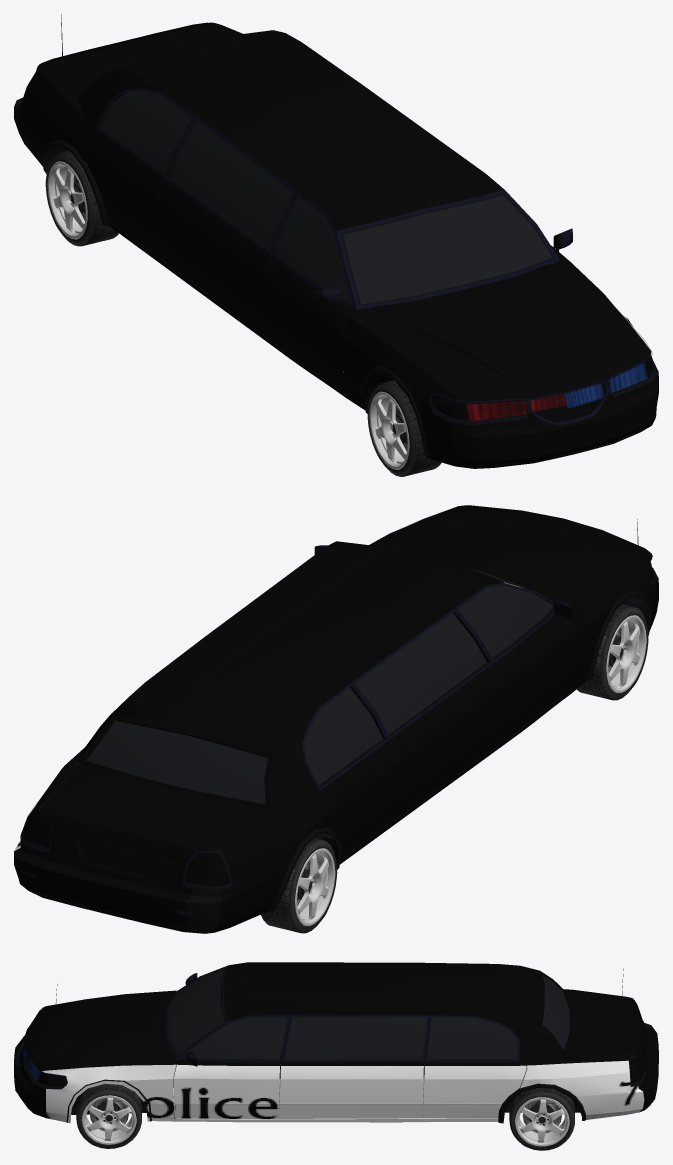
File: PoliceCar8.FBX
The picture shows the model from 3 angles, top to bottom: view 1: azimuth 30°, elevation 25°; view 2: azimuth 150°, elevation 25°; view 3: azimuth 270°, elevation 25°; orthographic projection. The views are drawn at different scales.
Parts seen in each view (by area): view 1: Body, FR, BR; view 2: Body, BR, FR; view 3: Body, FL, BL.
Part boxes in pixels (x1,y1,x2,y2): Body: [14, 14, 658, 468]; FR: [367, 380, 441, 476]; BR: [45, 151, 118, 246]; Body: [14, 505, 658, 933]; BR: [261, 838, 337, 933]; FR: [576, 604, 648, 700]; Body: [14, 962, 658, 1123]; FL: [76, 1083, 141, 1148]; BL: [509, 1088, 574, 1150].
Bounding box in the file's own units: 19.34 × 13.04 × 61.23.
